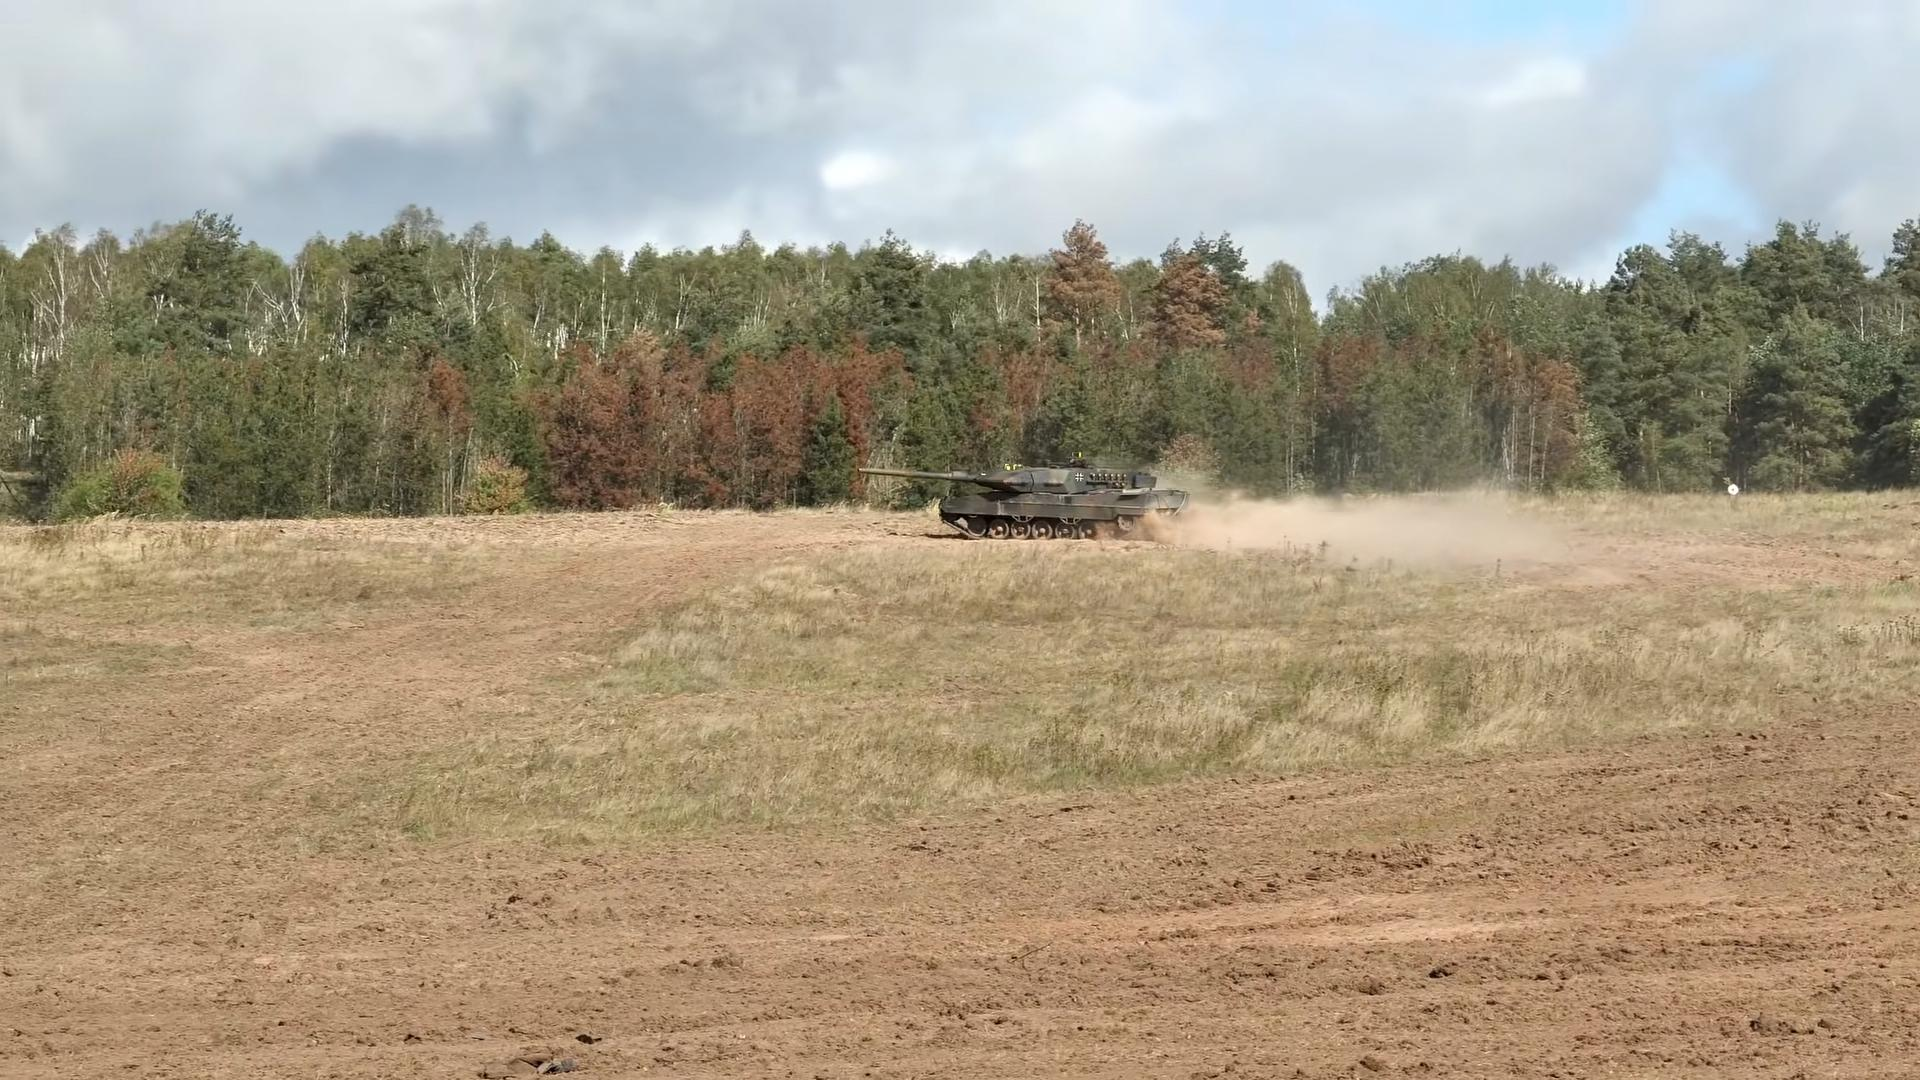tank: (858, 452, 1189, 541)
